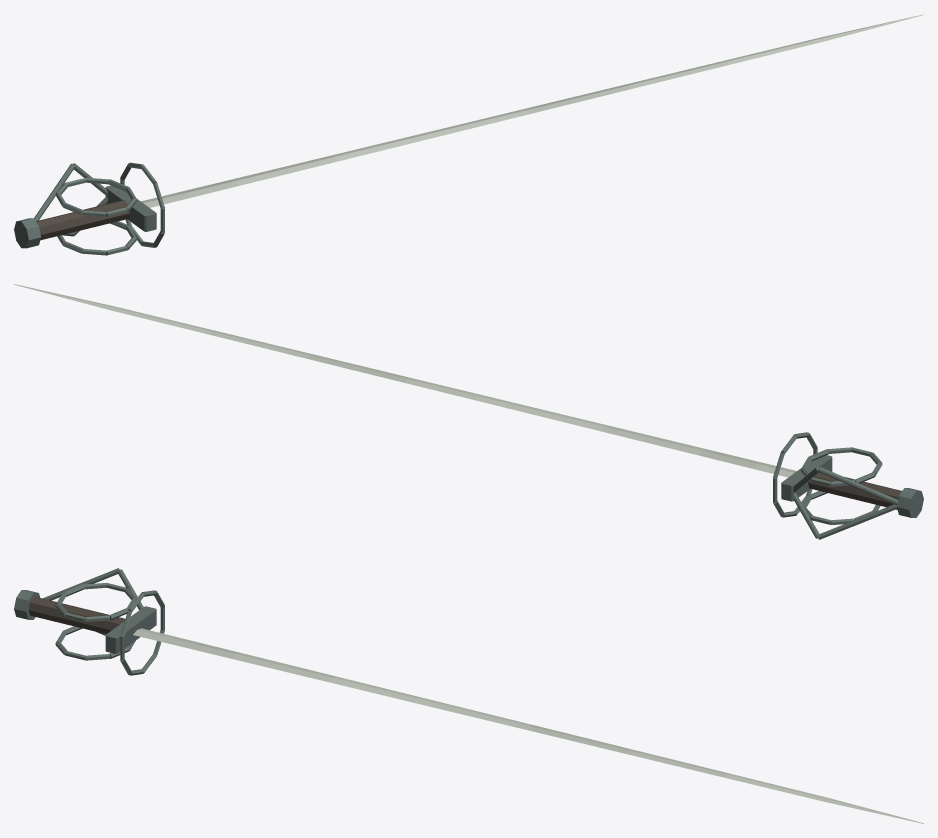
Rendered from weapon-rapier.glb.
3 renders of one model, top to bottom at view 1: azimuth 30°, elevation 25°; view 2: azimuth 150°, elevation 25°; view 3: azimuth 330°, elevation 25°, orthographic.
Visible parts, largest first — view 1: weapon-rapier/faceted-distinct-blade, weapon-rapier/eight-sided-handle, weapon-rapier/transverse-crossguard, weapon-rapier/handle-end-pommel; view 2: weapon-rapier/faceted-distinct-blade, weapon-rapier/eight-sided-handle, weapon-rapier/transverse-crossguard, weapon-rapier/handle-end-pommel; view 3: weapon-rapier/faceted-distinct-blade, weapon-rapier/eight-sided-handle, weapon-rapier/transverse-crossguard.
Part boxes in pixels (<box>): weapon-rapier/faceted-distinct-blade: <box>141,14,923,207</box>; weapon-rapier/eight-sided-handle: <box>36,200,129,240</box>; weapon-rapier/transverse-crossguard: <box>105,185,156,231</box>; weapon-rapier/handle-end-pommel: <box>14,218,40,248</box>; weapon-rapier/faceted-distinct-blade: <box>14,284,796,477</box>; weapon-rapier/eight-sided-handle: <box>808,472,901,509</box>; weapon-rapier/transverse-crossguard: <box>781,455,832,501</box>; weapon-rapier/handle-end-pommel: <box>897,488,923,517</box>; weapon-rapier/faceted-distinct-blade: <box>133,628,923,823</box>; weapon-rapier/eight-sided-handle: <box>28,597,125,634</box>; weapon-rapier/transverse-crossguard: <box>105,606,156,653</box>.
Bounding box in the file's own units: 1.33 × 0.1133 × 0.1168.
3 materials, 3 textured.
